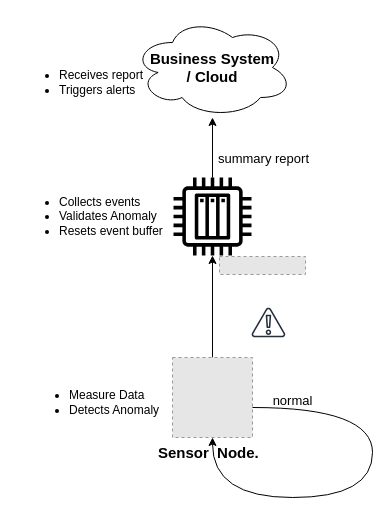
The diagram is 390 pixels wide and 515 high, and some of its shapes have lost their labels. Grey dashed boxes stand in for pictures. Each missing label, with the centre of its shape:
"anomaly_detected": (268,322)
Edge Controller: (212,216)
